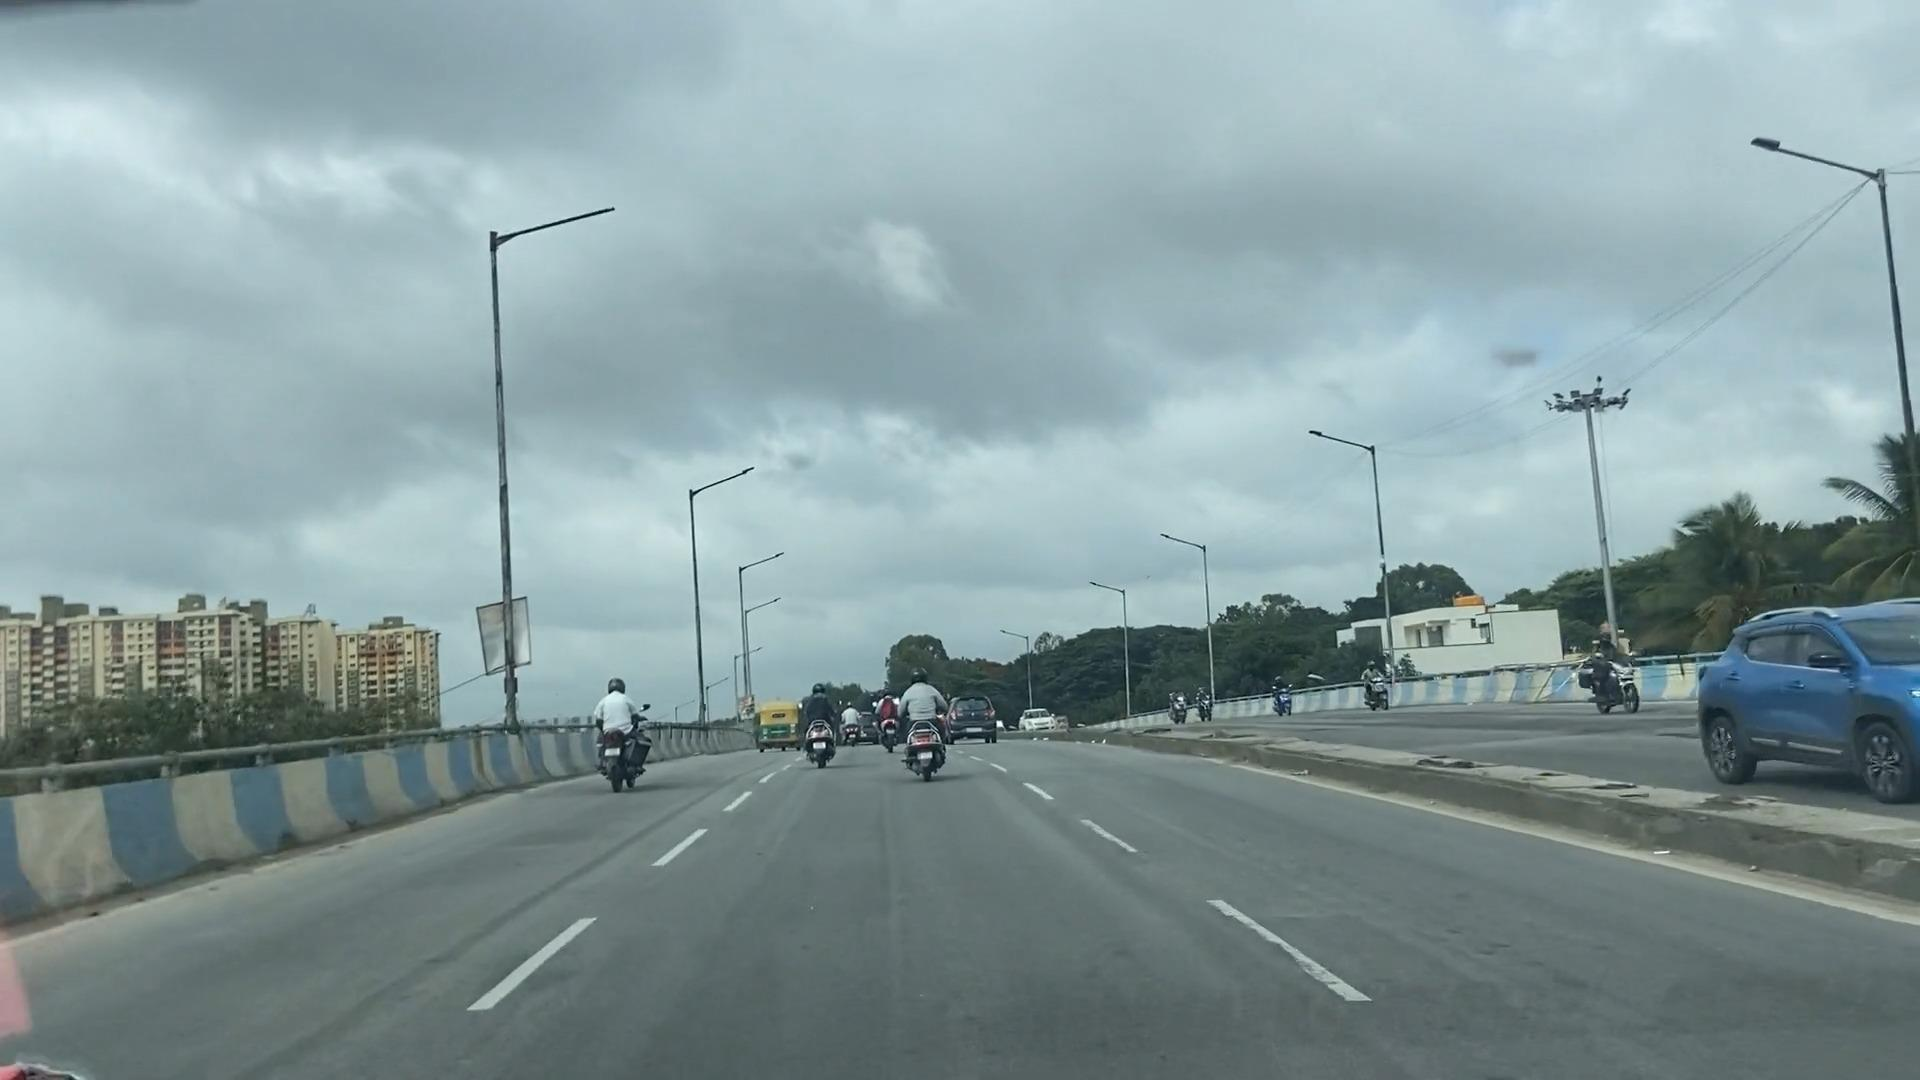LMV: (902, 680, 965, 778), (603, 674, 650, 789), (806, 678, 837, 761), (960, 688, 998, 749), (764, 704, 794, 753)
